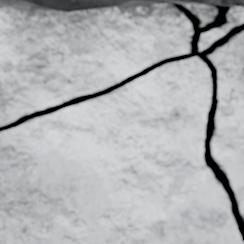brick: (0, 58, 243, 243), (0, 0, 191, 124), (210, 32, 243, 214), (200, 6, 243, 49), (179, 2, 215, 24)
crack: (0, 0, 243, 241)
